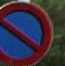No waiting: (0, 0, 53, 64)
